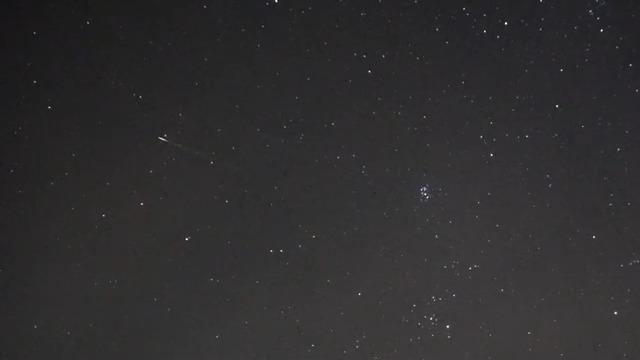meteorite: (137, 133, 200, 149)
